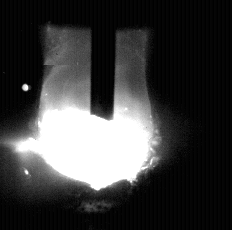arame: (92, 0, 116, 120)
poca: (38, 0, 154, 230)
